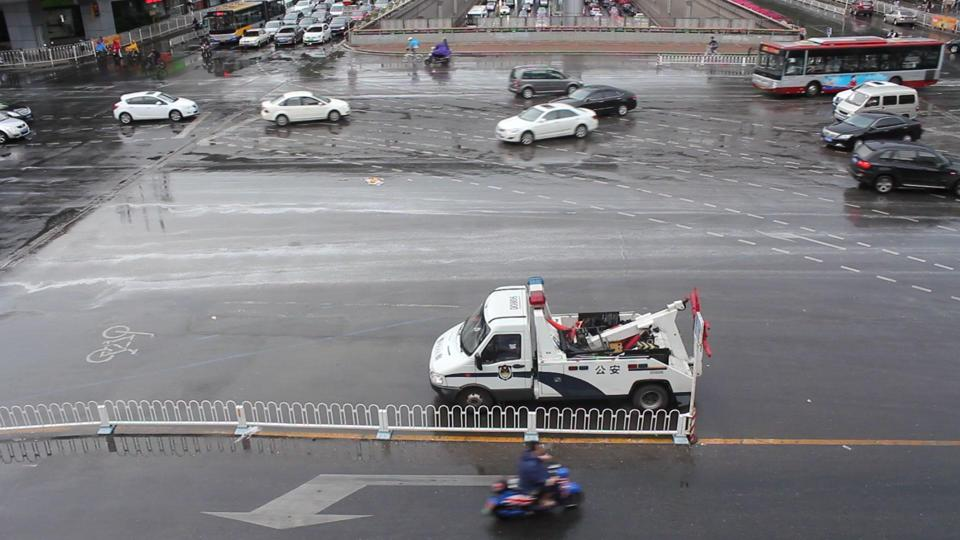Bus: (751, 39, 945, 89)
Car: (848, 140, 960, 192), (493, 101, 597, 141), (817, 109, 922, 148), (260, 91, 351, 125), (544, 86, 638, 116), (114, 93, 200, 124), (506, 63, 584, 96), (831, 78, 909, 109)
Minivan: (833, 87, 916, 124)
Truck: (429, 270, 712, 410)
